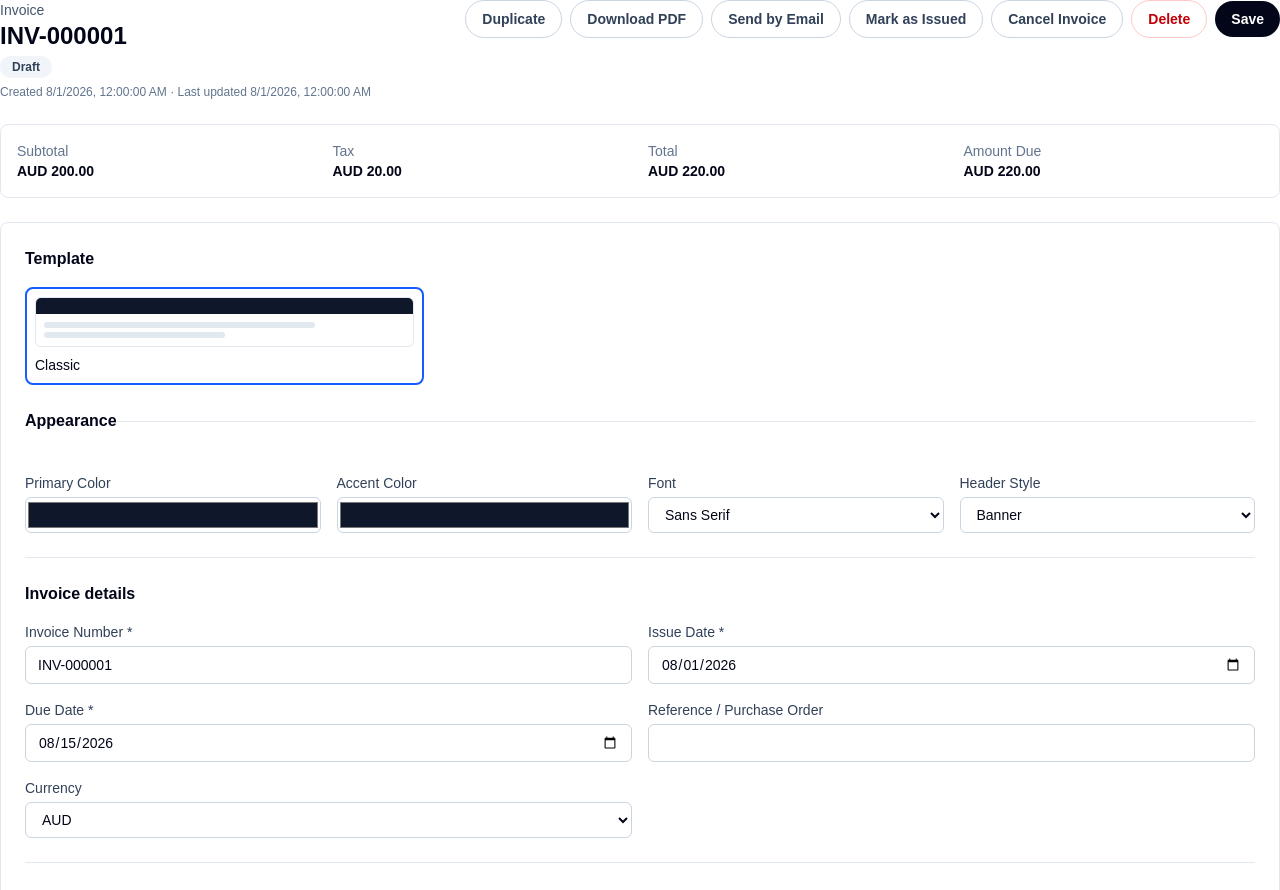
Test: InvoiceDetail › cancel and delete (IG-49) › shows the server's error inside the dialog when cancelling is rejected
Click the button "Cancel Invoice": point(1057, 19) x1=991 y1=0 x2=1123 y2=38
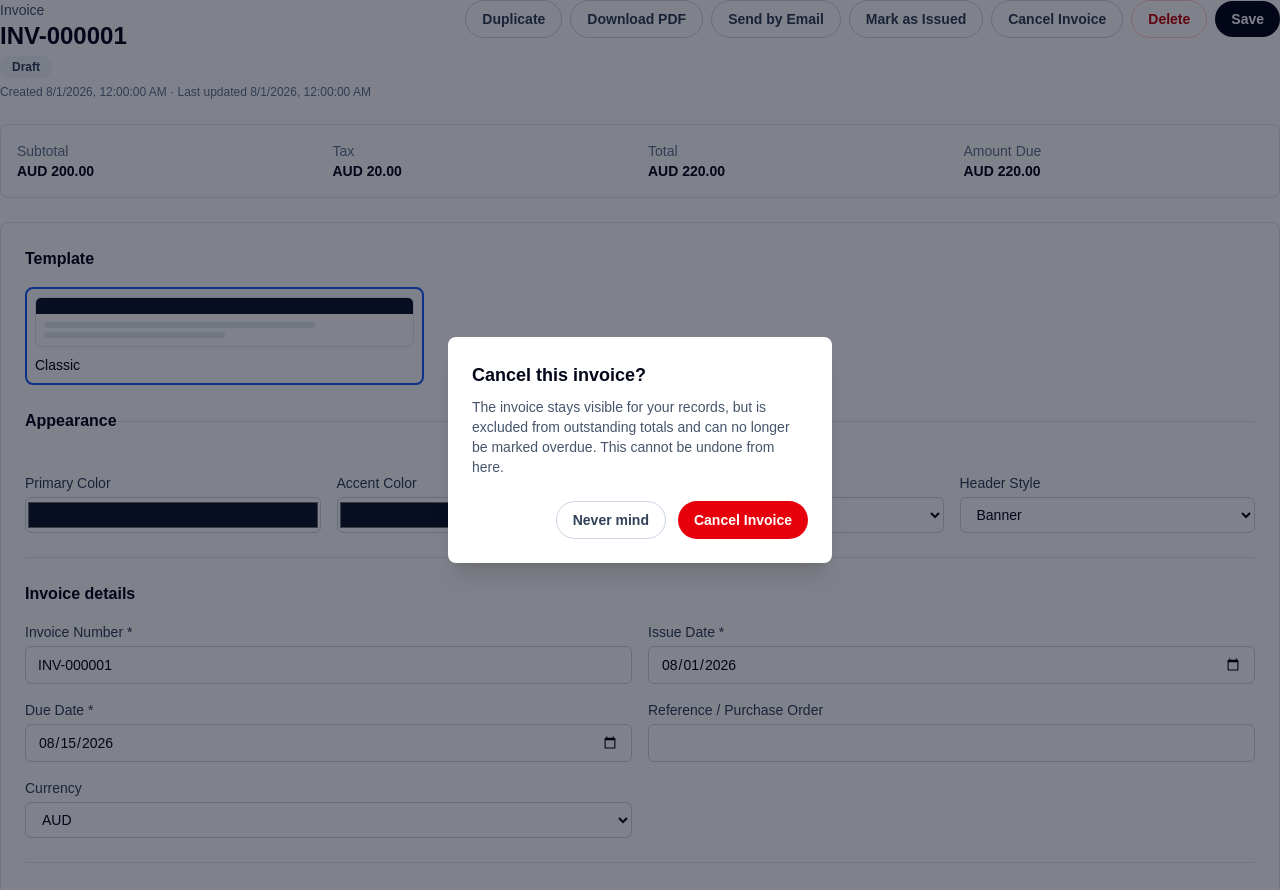
Click the button "Cancel Invoice": point(743, 520) x1=678 y1=501 x2=808 y2=539
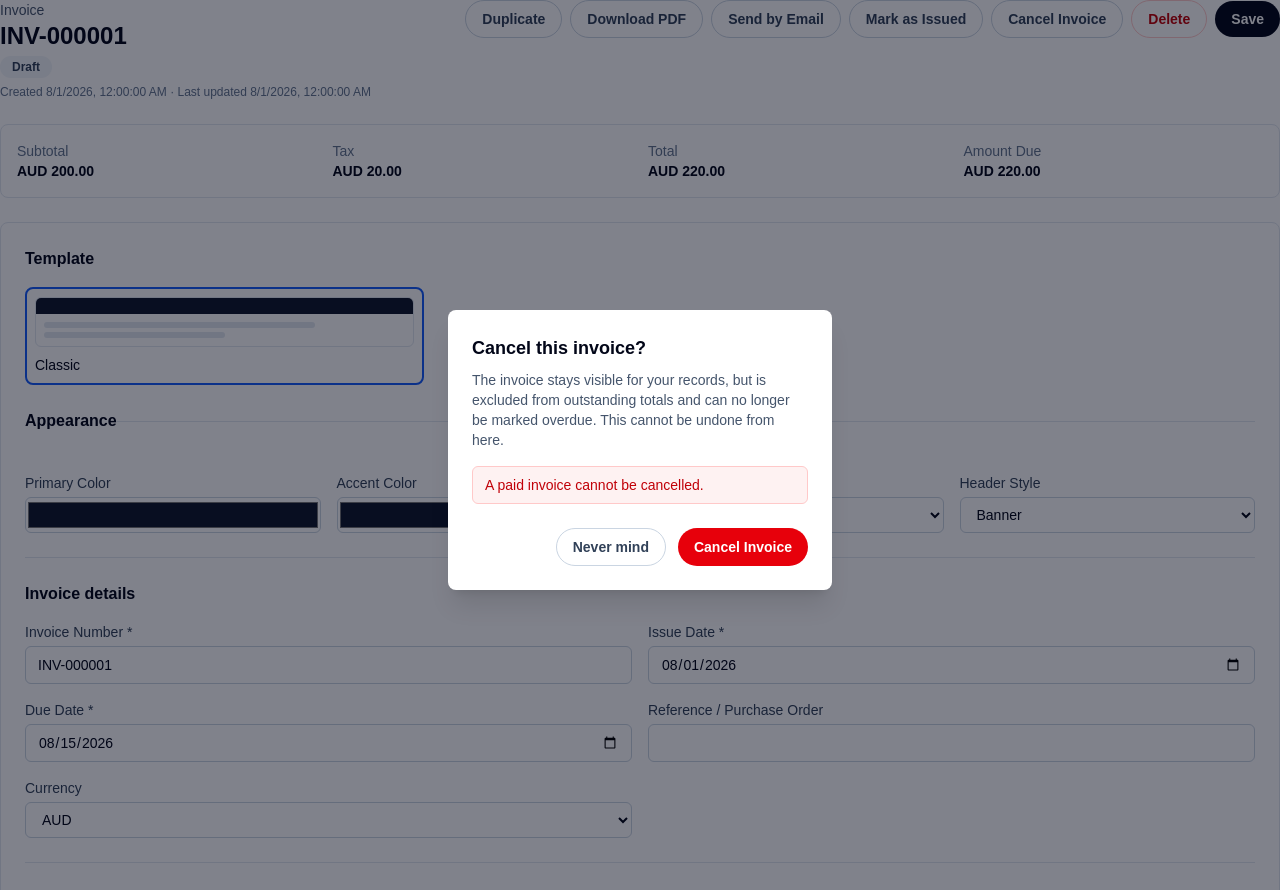
Expected: the dialog is shown, x1=448 y1=310 x2=832 y2=590
Expected: the message reads "A paid invoice cannot be cancelled.", x1=485 y1=477 x2=704 y2=493
